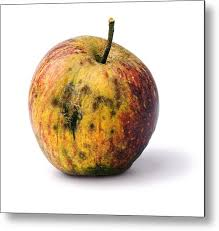damaged_apple: (29, 35, 156, 179)
